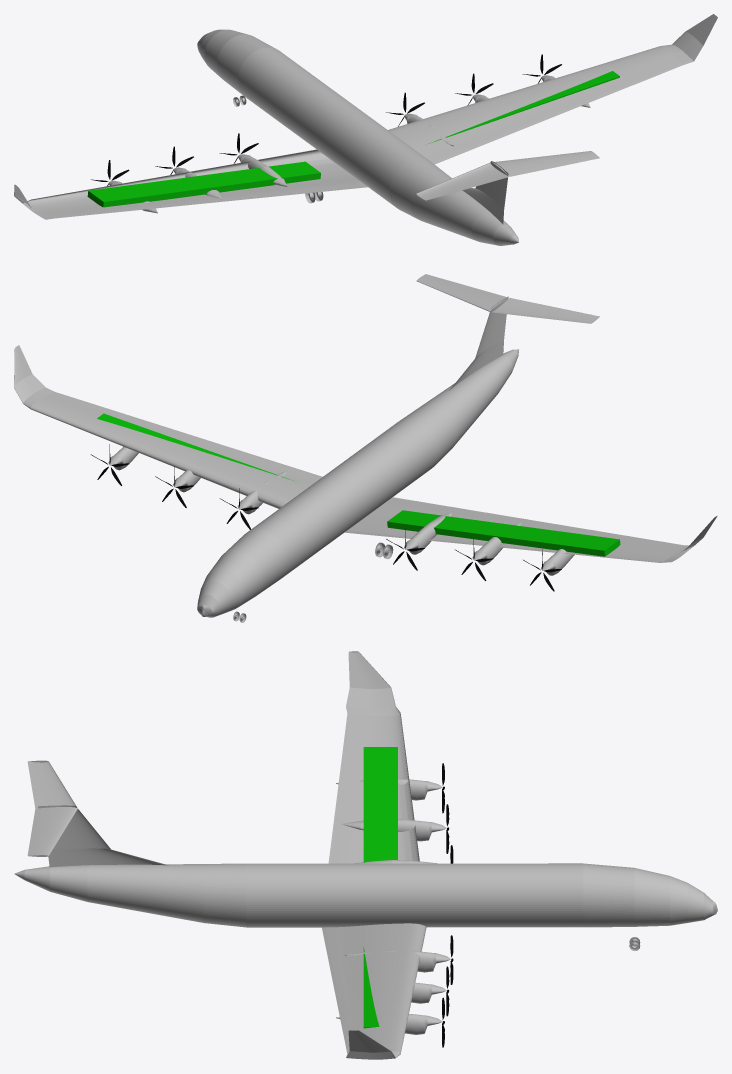
File: Elysian_E9X_Model.gltf
3 renders of one model, top to bottom at view 1: azimuth 30°, elevation 25°; view 2: azimuth 150°, elevation 25°; view 3: azimuth 270°, elevation 25°, orthographic. The views are drawn at different scales.
Visible parts, largest first — view 1: Renderer Node; view 2: Renderer Node; view 3: Renderer Node.
Boxes of the visible parts, x1=… form: Renderer Node: x1=14, y1=14, x2=717, y2=245; Renderer Node: x1=14, y1=274, x2=717, y2=622; Renderer Node: x1=14, y1=651, x2=717, y2=1059.
Size of the model in its own units: 42 by 7.81 by 33.
